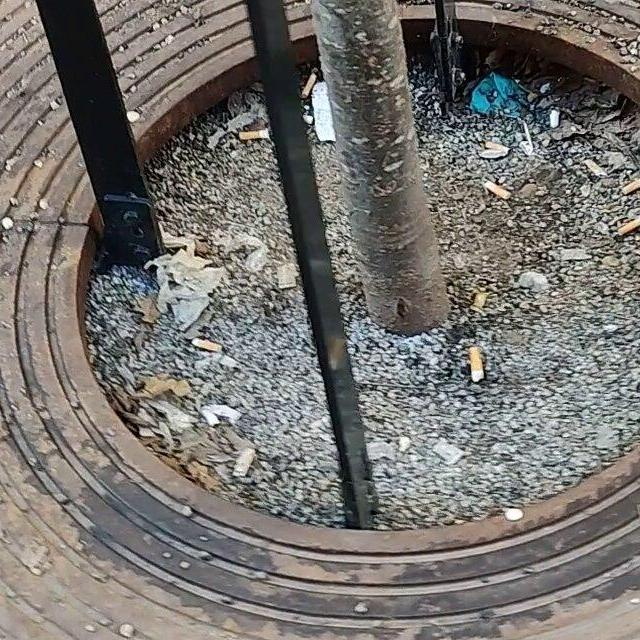Cigarette Butt: (190, 333, 222, 355), (236, 124, 269, 143), (615, 215, 640, 237), (472, 349, 491, 377), (485, 181, 511, 201), (304, 72, 319, 101), (626, 181, 640, 198)
